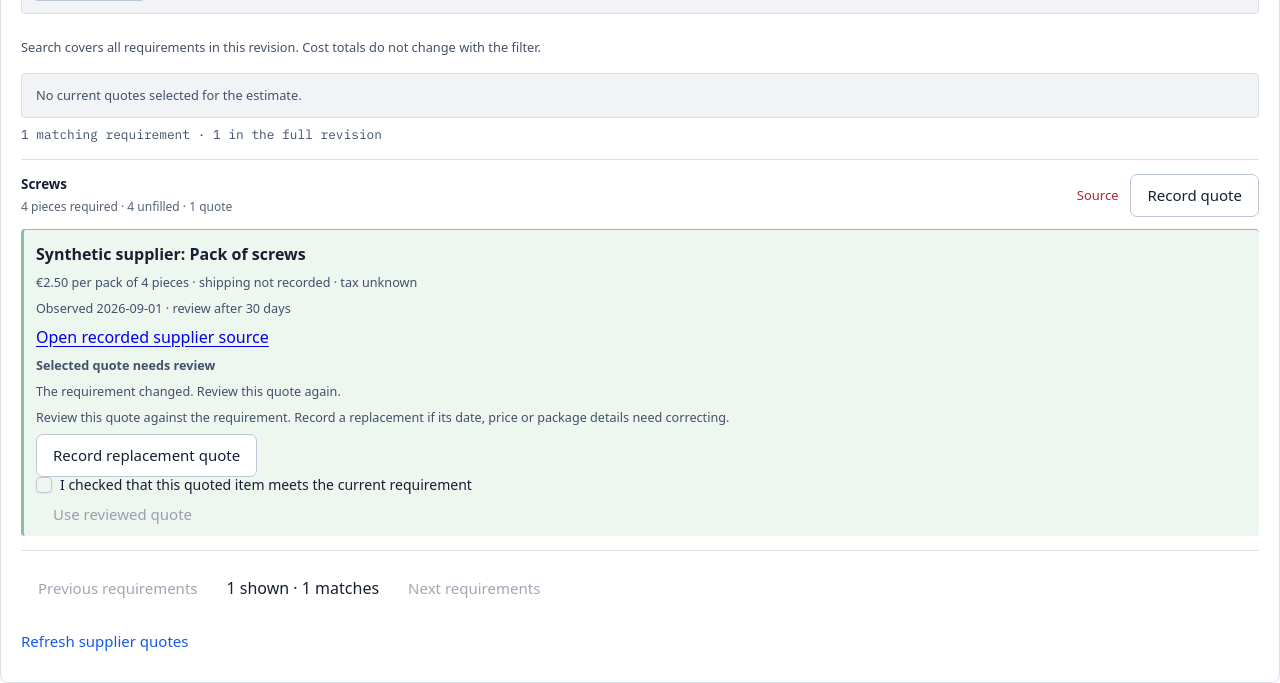
Test: requires renewed fit review after the requirement version changes
The image size is (1280, 683).
(page scrolled)
Expected: the text "Selected quote needs review" is shown, [36,356,215,374]
Expected: the button "Use reviewed quote" is disabled, [36,493,209,536]
Click the checkbox named "I checked that this quoted item meets the current requirement" at [44, 485], box [36,477,52,493]
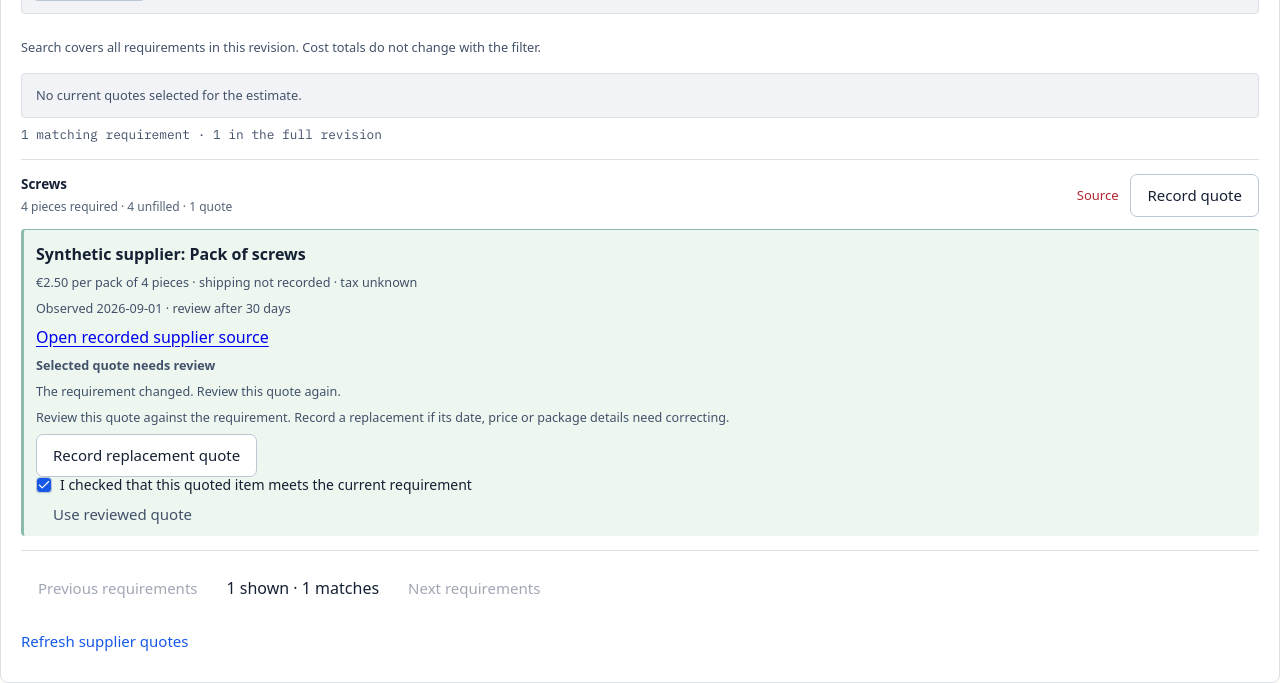
Expected: the button "Use reviewed quote" is enabled, [36,493,209,536]
